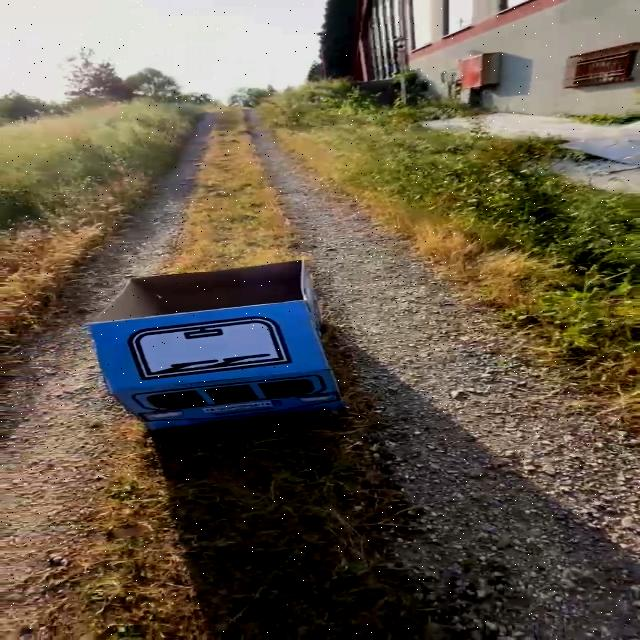blue_car: (77, 258, 379, 439)
